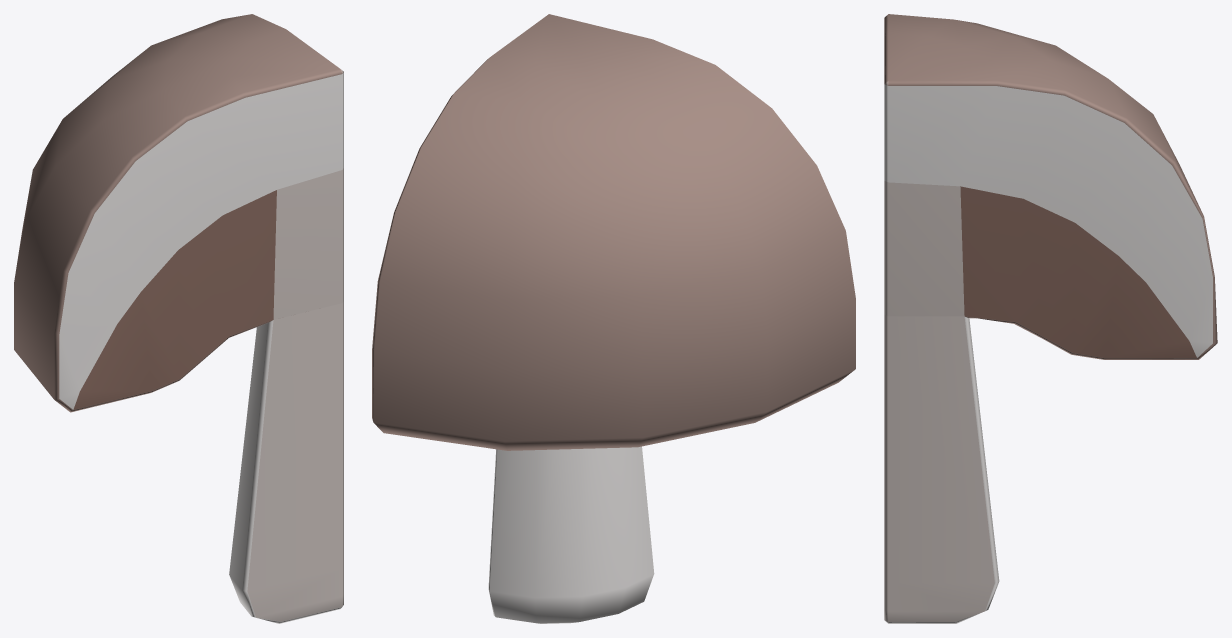
File: Champignon_Mushroom_Quarter.fbx
3 renders of one model, left to right at view 1: azimuth 30°, elevation 25°; view 2: azimuth 150°, elevation 25°; view 3: azimuth 270°, elevation 25°, orthographic. The views are drawn at different scales.
Parts seen in each view (by area): view 1: Champignon_Mushroom_Quarter; view 2: Champignon_Mushroom_Quarter; view 3: Champignon_Mushroom_Quarter.
Part boxes in pixels (<box>): Champignon_Mushroom_Quarter: <box>14,14,343,623</box>; Champignon_Mushroom_Quarter: <box>372,14,855,623</box>; Champignon_Mushroom_Quarter: <box>884,14,1217,623</box>.
Bounding box in the file's own units: 5.85 × 10.43 × 5.8.
